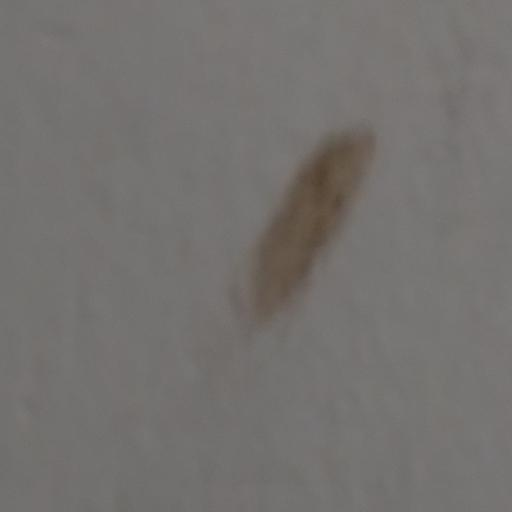stain: (175, 104, 388, 337)
